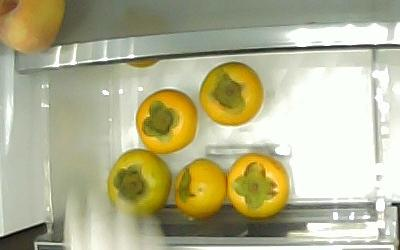persimmon: (200, 61, 263, 126), (107, 150, 170, 214), (228, 153, 291, 217), (135, 90, 196, 153), (174, 159, 227, 216)
